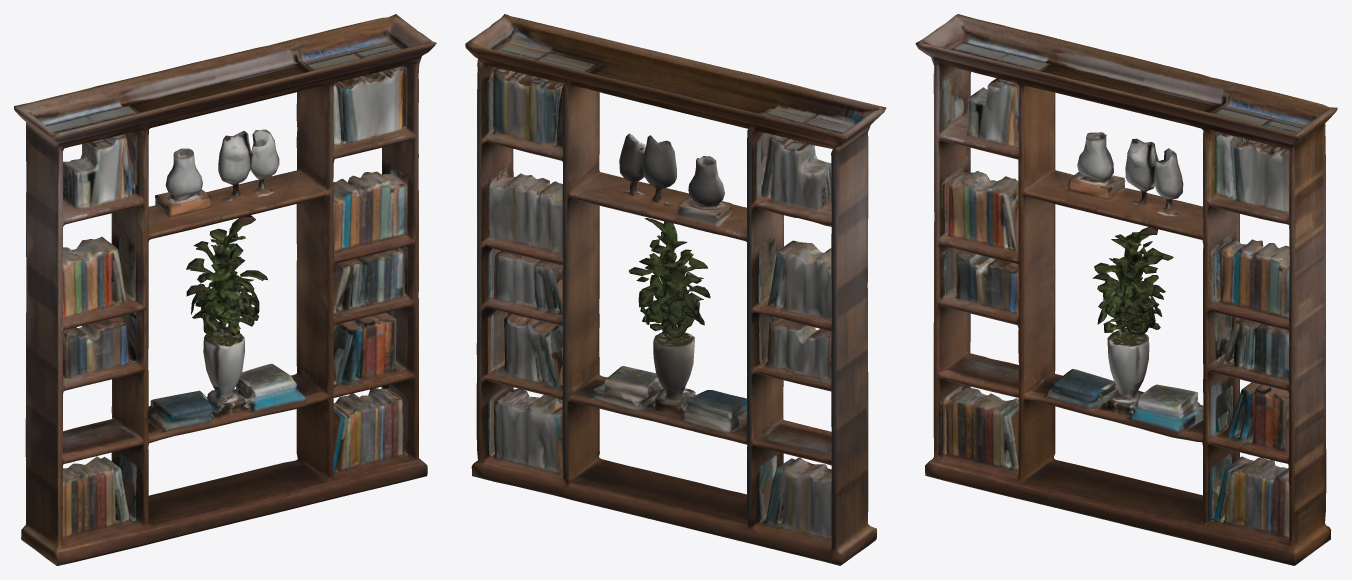
The model's file is Bookshelf.gltf.
The picture shows the model from 3 angles, left to right: view 1: azimuth 30°, elevation 25°; view 2: azimuth 150°, elevation 25°; view 3: azimuth 330°, elevation 25°; orthographic projection.
Parts seen in each view (by area): view 1: Mesh1; view 2: Mesh1; view 3: Mesh1.
Boxes of the visible parts, <box> form: Mesh1: <box>14,14,436,565</box>; Mesh1: <box>465,14,886,565</box>; Mesh1: <box>915,14,1337,565</box>.
Bounding box in the file's own units: 1.85 × 2.01 × 0.347.
1 material, 1 textured.
